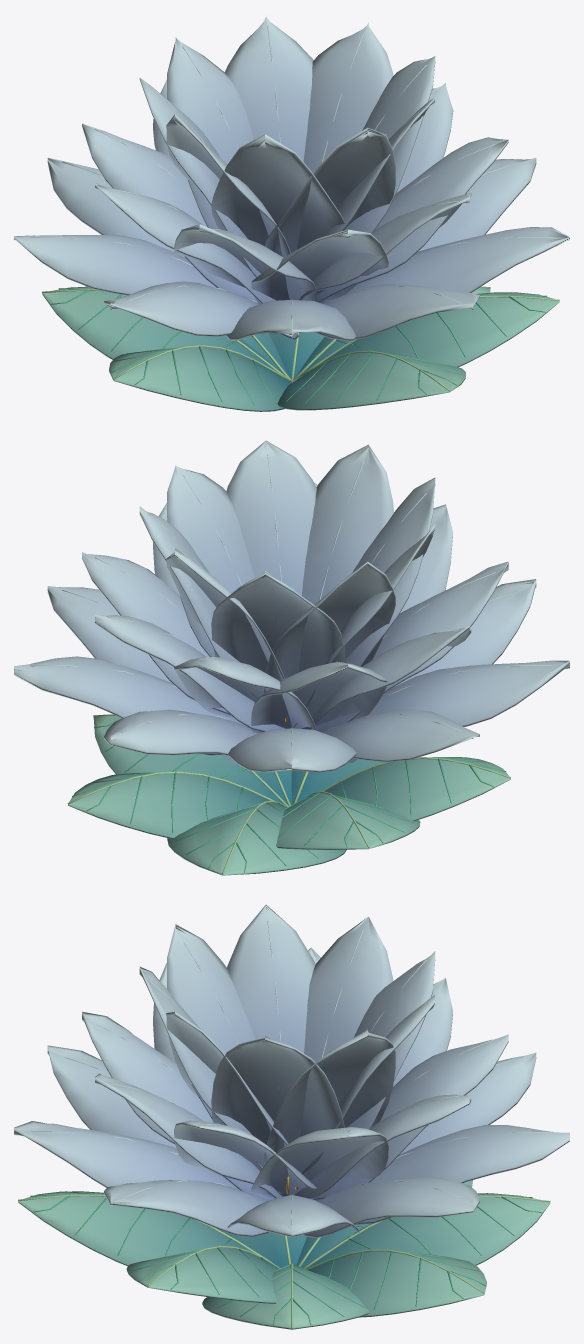
File: enchanted-snowlotus.glb
The picture shows the model from 3 angles, top to bottom: view 1: azimuth 30°, elevation 25°; view 2: azimuth 150°, elevation 25°; view 3: azimuth 270°, elevation 25°; orthographic projection.
Parts seen in each view (by area): view 1: enchanted-snowlotus-sculpted-details; view 2: enchanted-snowlotus-sculpted-details; view 3: enchanted-snowlotus-sculpted-details.
Part boxes in pixels (x1,y1,x2,y2): enchanted-snowlotus-sculpted-details: (14, 15, 569, 411); enchanted-snowlotus-sculpted-details: (14, 440, 569, 875); enchanted-snowlotus-sculpted-details: (14, 904, 569, 1329).
Size of the model in its own units: 1.58 by 1 by 1.61.
